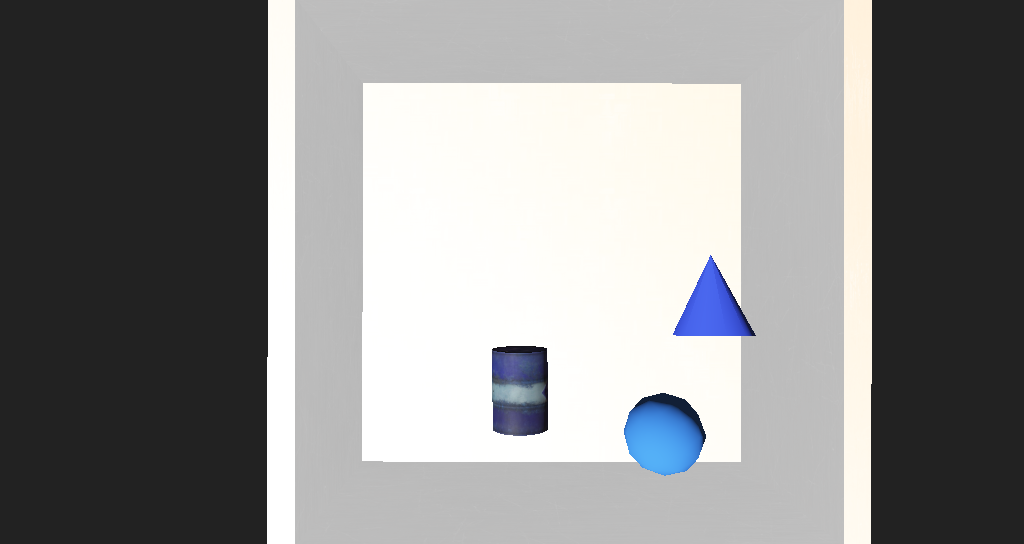cone: (458, 310, 499, 358)
cylinder: (600, 258, 667, 305)
sphere: (559, 334, 627, 382)
